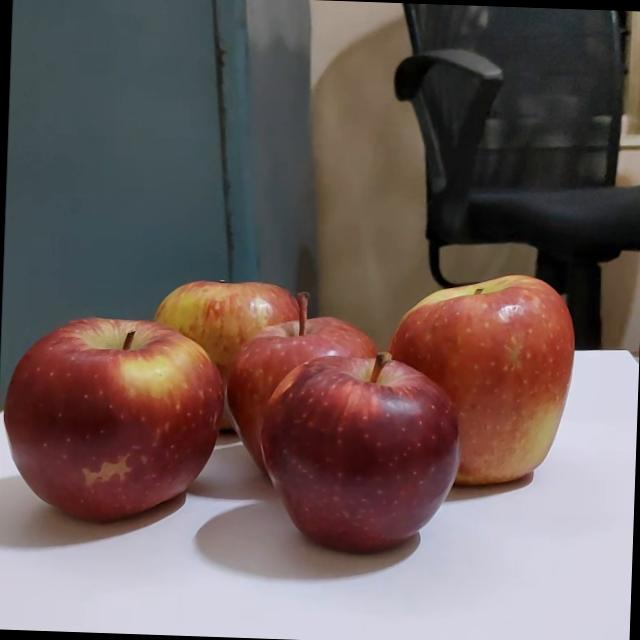apple: (0, 313, 231, 532), (374, 256, 578, 497), (253, 344, 472, 561), (220, 286, 387, 489), (140, 272, 306, 438)
